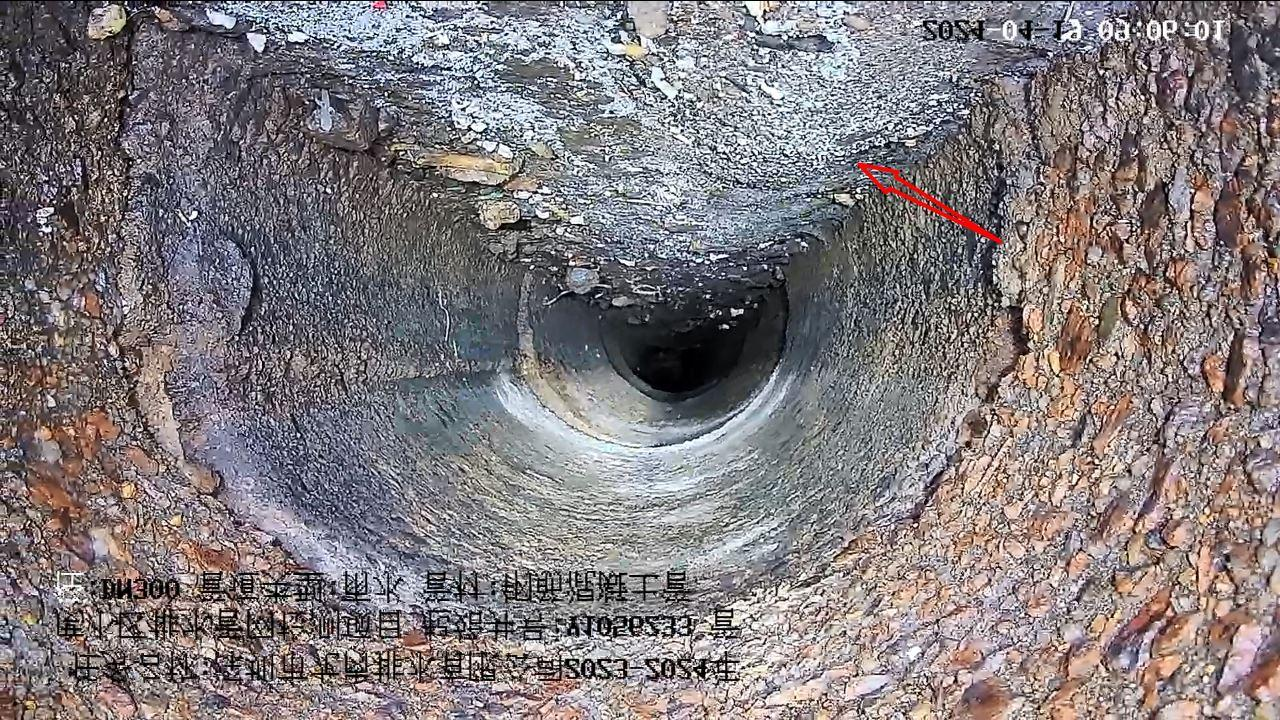CJ: (182, 4, 1119, 322)
CKTJ: (511, 254, 796, 455), (597, 311, 756, 408)
